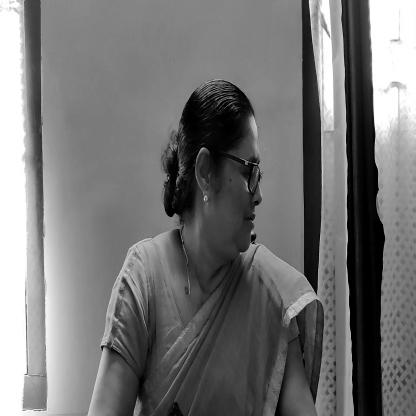Distracted: (154, 77, 266, 269)
